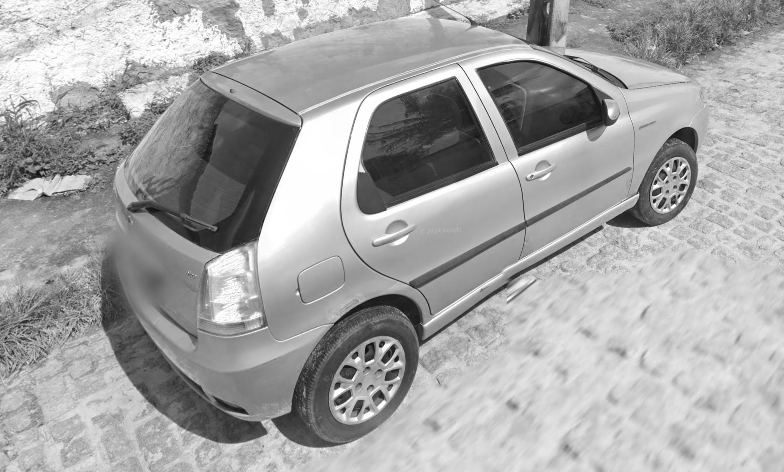car: (109, 13, 710, 442)
